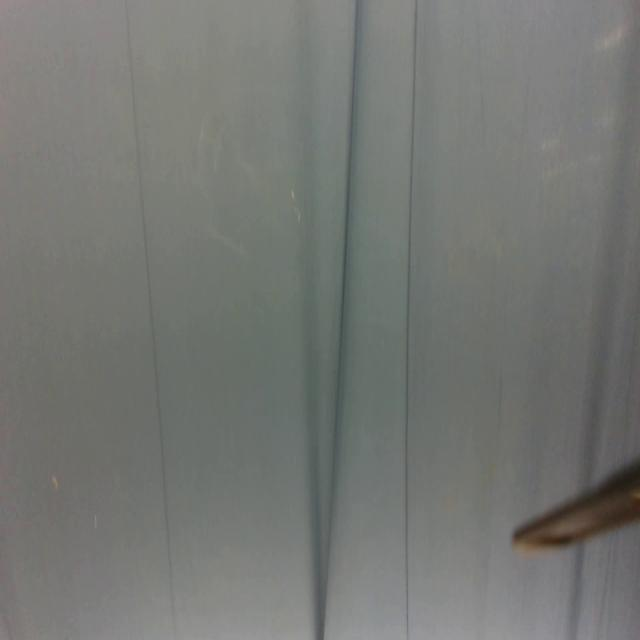crease: (125, 4, 176, 640), (322, 2, 360, 636), (403, 0, 420, 640)
hole: (50, 475, 61, 494), (93, 514, 99, 528)
